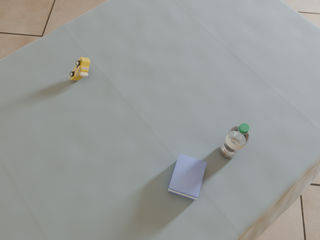bottle: (220, 123, 250, 158)
box: (168, 154, 207, 200)
toy_car: (69, 57, 90, 80)
